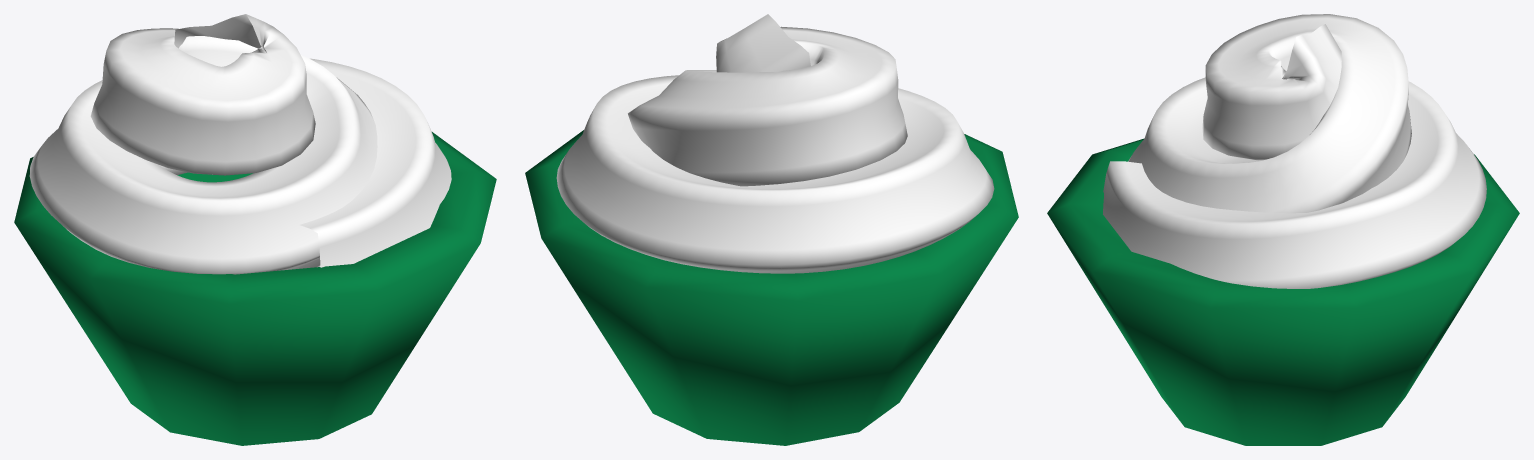
The model's file is Supermarket_Run_Cream.fbx.
3 renders of one model, left to right at view 1: azimuth 30°, elevation 25°; view 2: azimuth 150°, elevation 25°; view 3: azimuth 270°, elevation 25°, orthographic. The views are drawn at different scales.
Visible parts, largest first — view 1: Circle, Cylinder; view 2: Circle, Cylinder; view 3: Circle, Cylinder.
Boxes of the visible parts, bbox=[...] form: Circle: bbox=[29, 14, 451, 274]; Cylinder: bbox=[14, 132, 496, 445]; Circle: bbox=[556, 14, 994, 273]; Cylinder: bbox=[525, 130, 1018, 445]; Circle: bbox=[1103, 14, 1486, 288]; Cylinder: bbox=[1047, 138, 1519, 445].
Size of the model in its own units: 206 by 181 by 217.
